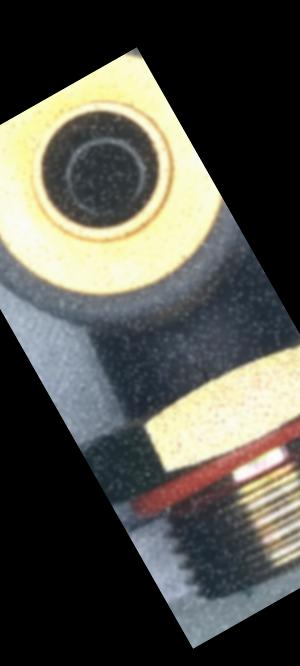craze: (189, 355, 218, 391)
